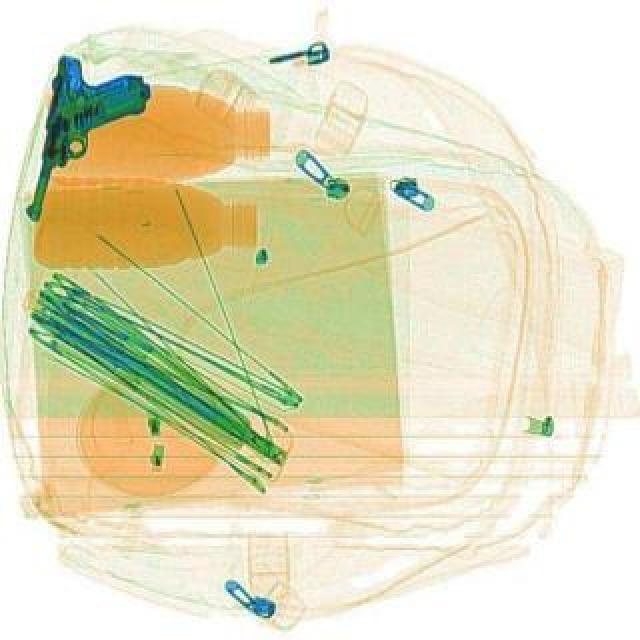gun: (22, 52, 154, 234)
